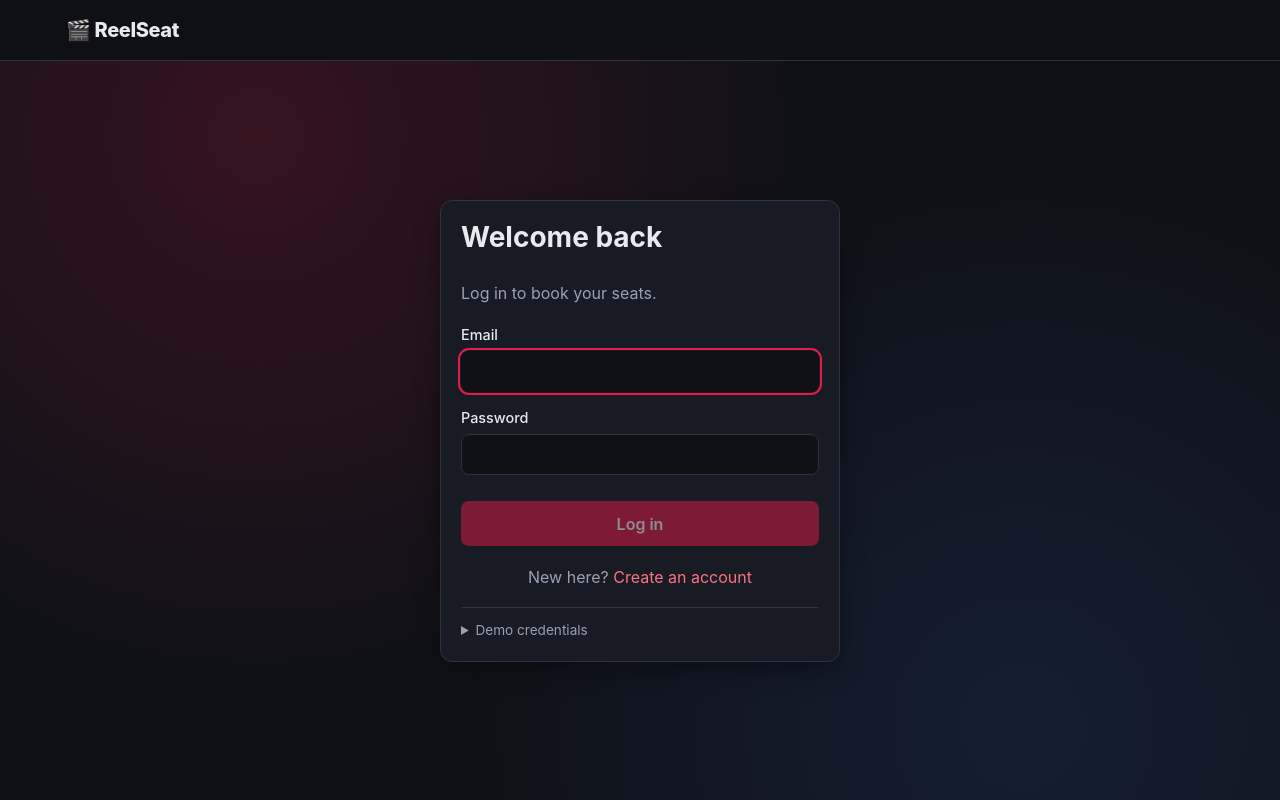
Test case: role-based routing › does not log out a fresh session when a stale token check fails late
This screenshot has width=1280, height=800.
In the field labelled "Email": [640, 372] box [461,351,819,392], type "user@reelseat.com"
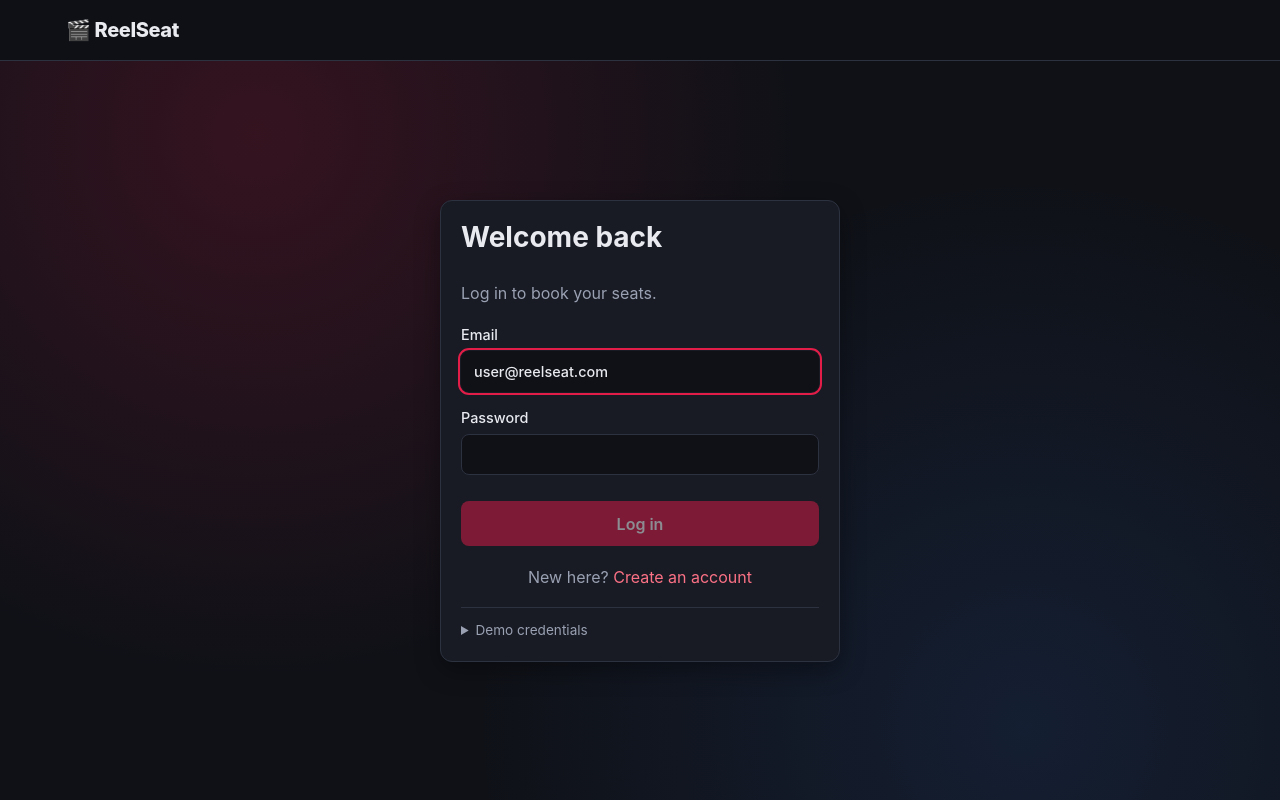
In the password field labelled "Password": [640, 454] box [461,434,819,475], type "User@1234"
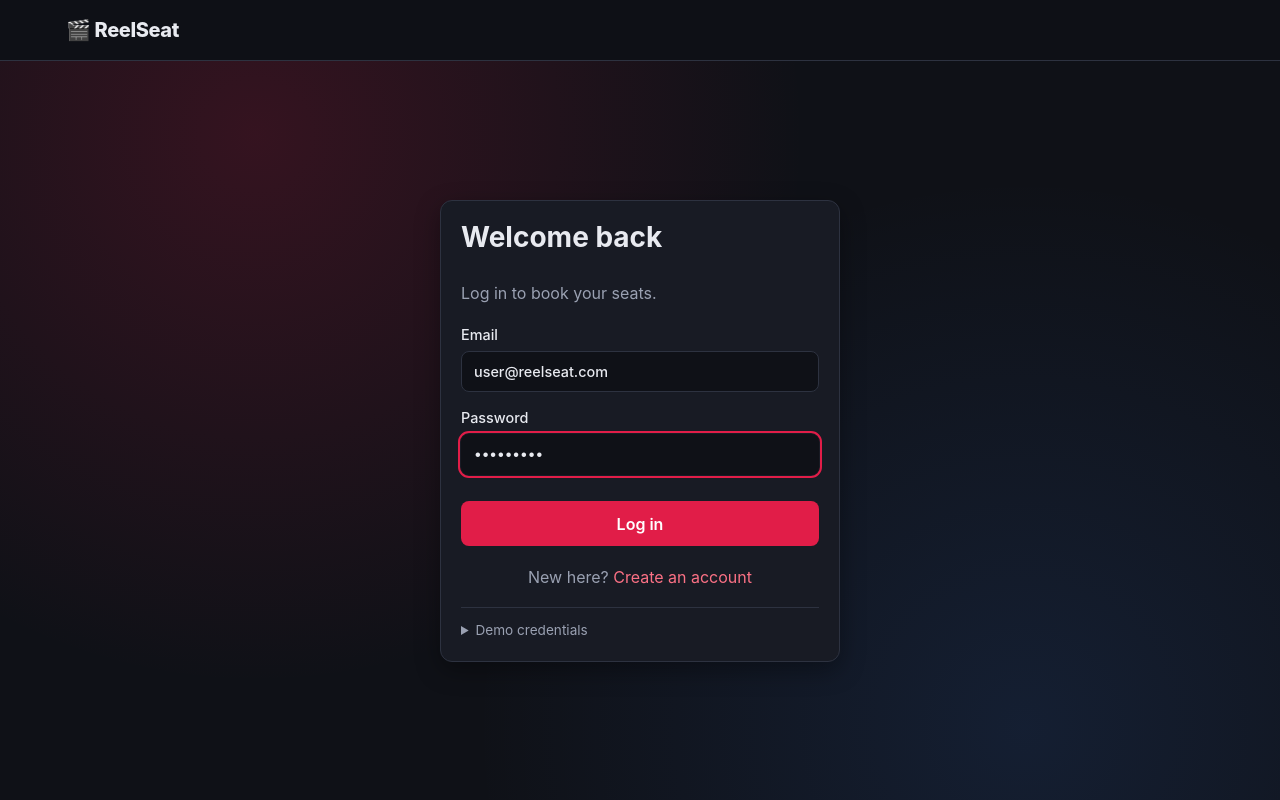
Click the button "Log in": [640, 524] box [461,501,819,546]
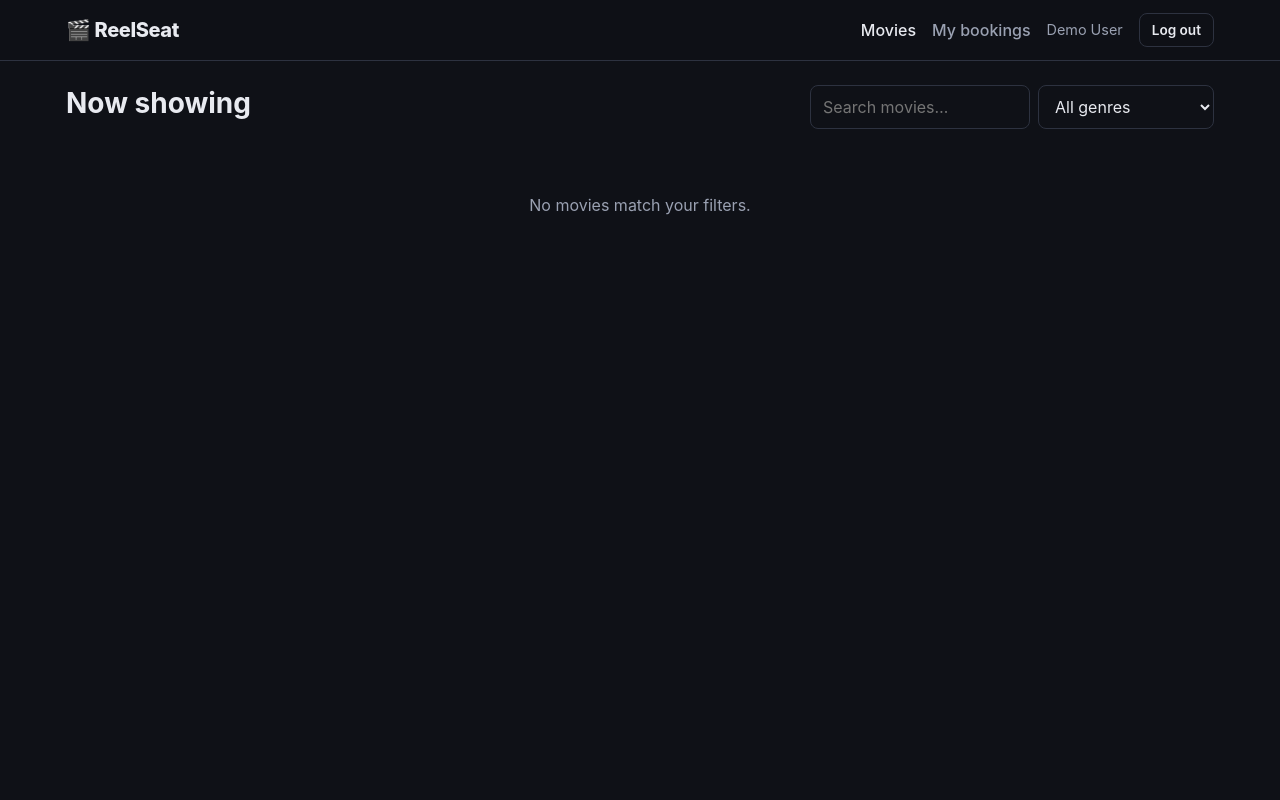
expect the heading "Now showing" is shown: met, box [66,87,251,121]
